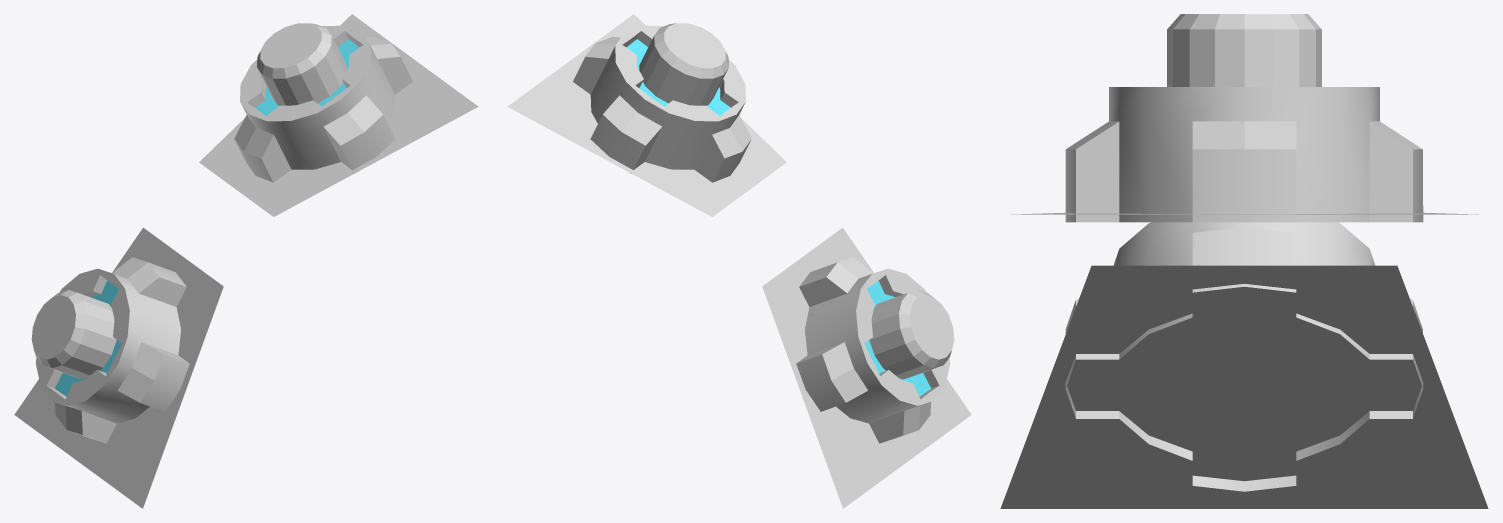
File: Mod_Pauldron_R_Mirage1.fbx
The picture shows the model from 3 angles, left to right: view 1: azimuth 30°, elevation 25°; view 2: azimuth 150°, elevation 25°; view 3: azimuth 270°, elevation 25°; orthographic projection. The views are drawn at different scales.
Visible parts, largest first — view 1: Mod_Pauldron_R_Mirage1; view 2: Mod_Pauldron_R_Mirage1; view 3: Mod_Pauldron_R_Mirage1.
Part boxes in pixels (bbox=[...]): Mod_Pauldron_R_Mirage1: bbox=[14, 14, 478, 508]; Mod_Pauldron_R_Mirage1: bbox=[507, 14, 971, 508]; Mod_Pauldron_R_Mirage1: bbox=[1000, 14, 1488, 508].
Bounding box in the file's own units: 244 × 233 × 144.
